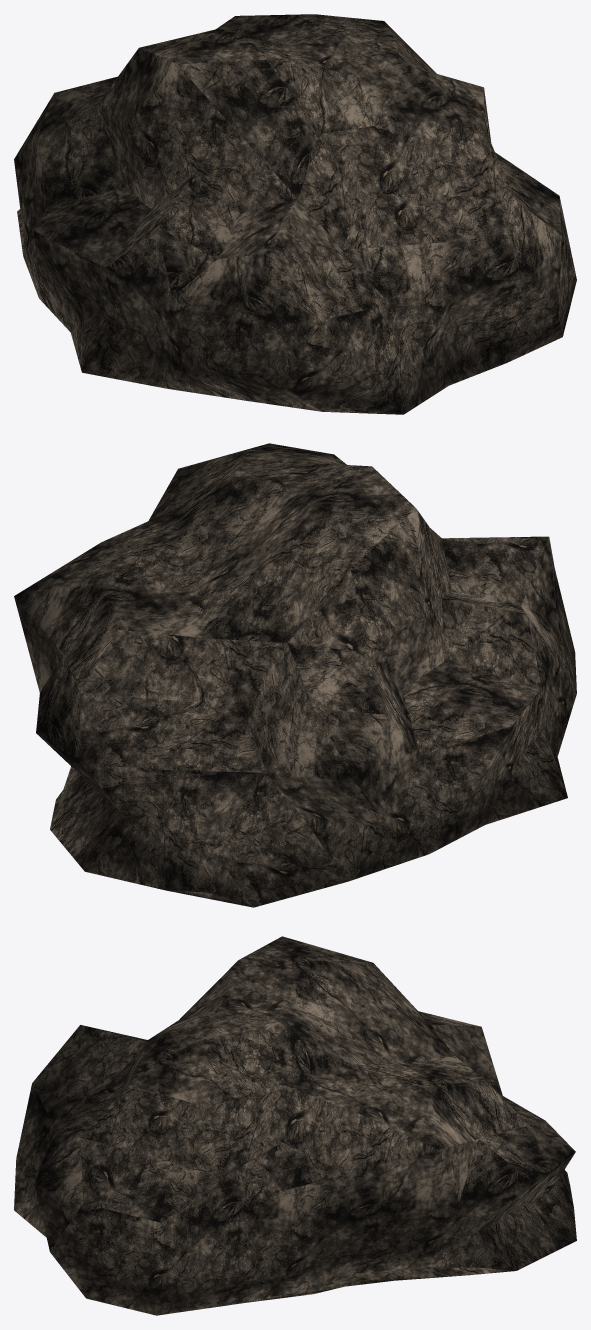
The model's file is rock_5.gltf.
The picture shows the model from 3 angles, top to bottom: view 1: azimuth 30°, elevation 25°; view 2: azimuth 150°, elevation 25°; view 3: azimuth 270°, elevation 25°; orthographic projection. The views are drawn at different scales.
Visible parts, largest first — view 1: rock; view 2: rock; view 3: rock.
Part boxes in pixels (left/top/right/bottom): rock: left=14, top=14, right=576, bottom=414; rock: left=14, top=443, right=576, bottom=907; rock: left=14, top=936, right=576, bottom=1315.
Size of the model in its own units: 55.3 by 31.55 by 65.61.
Materials: 1 (1 with a texture image).
